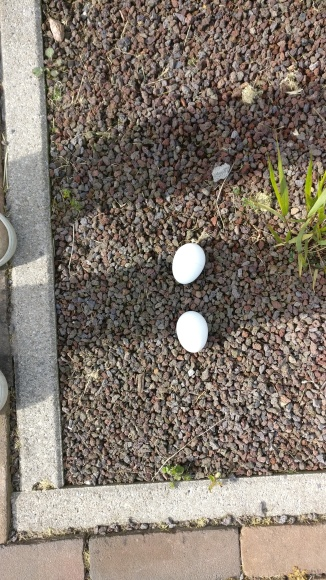egg: (171, 241, 207, 285), (175, 310, 210, 354)
